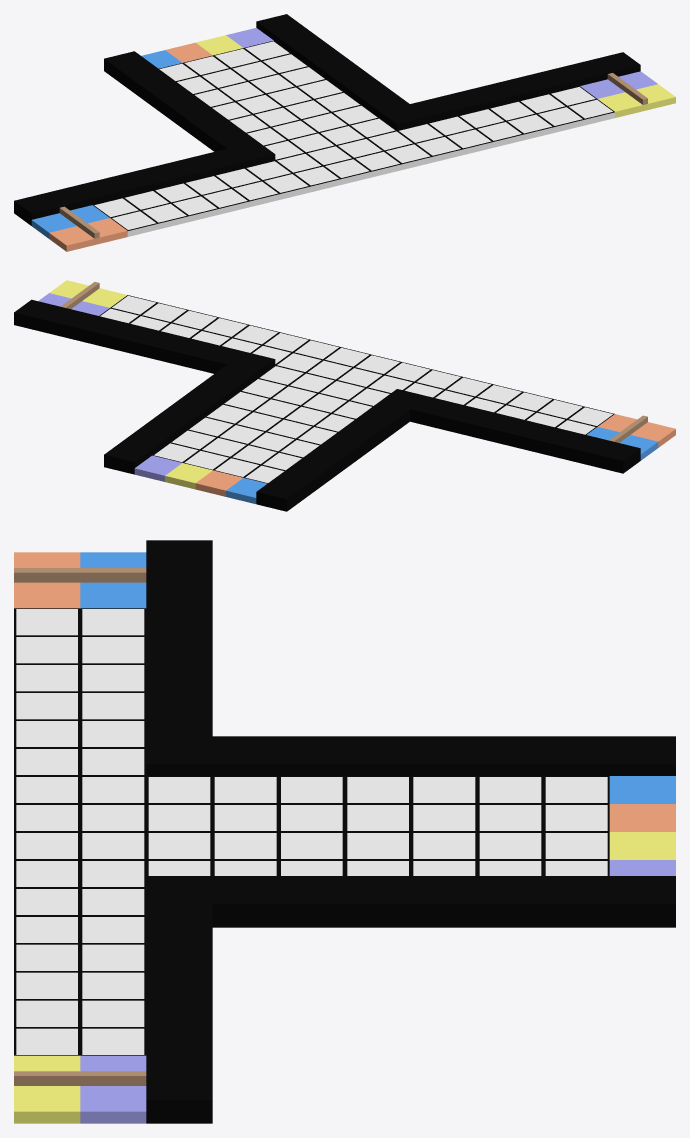
The model's file is arena_v2.dae.
3 renders of one model, top to bottom at view 1: azimuth 30°, elevation 25°; view 2: azimuth 150°, elevation 25°; view 3: azimuth 270°, elevation 25°, orthographic. The views are drawn at different scales.
Visible parts, largest first — view 1: node0, node15, node16, node17, node10, node7, node9, node6, node12, node3, node2, node4 (+6 smaller); view 2: node0, node15, node16, node17, node2, node3, node4, node1, node10, node7, node9, node12 (+3 smaller); view 3: node0, node16, node15, node17, node11, node12, node13, node14, node1, node2, node3, node5 (+6 smaller).
Boxes of the visible parts, x1,y1,x2,y2 form: node0: [94, 41, 614, 236]; node15: [14, 51, 275, 225]; node16: [256, 14, 640, 130]; node17: [93, 40, 614, 230]; node10: [49, 226, 97, 251]; node7: [598, 92, 645, 117]; node9: [31, 213, 76, 238]; node6: [88, 218, 127, 244]; node12: [636, 84, 675, 110]; node3: [196, 35, 242, 55]; node2: [165, 42, 212, 62]; node4: [226, 27, 273, 47]; node0: [100, 295, 612, 482]; node15: [256, 389, 640, 511]; node16: [14, 299, 275, 474]; node17: [99, 295, 614, 483]; node2: [195, 470, 243, 496]; node3: [165, 463, 212, 489]; node4: [134, 455, 181, 481]; node1: [226, 478, 266, 503]; node10: [631, 422, 675, 447]; node7: [82, 288, 127, 307]; node9: [620, 435, 658, 460]; node12: [49, 280, 88, 298]; node0: [16, 609, 607, 1054]; node16: [146, 876, 675, 1123]; node15: [146, 540, 675, 775]; node17: [14, 608, 609, 1055]; node11: [80, 1086, 146, 1123]; node12: [14, 1086, 80, 1123]; node13: [14, 568, 146, 582]; node14: [14, 1071, 146, 1085]; node1: [609, 776, 675, 803]; node2: [609, 804, 675, 831]; node3: [609, 832, 675, 859]; node5: [80, 582, 146, 608].
Bounding box in the file's own units: 3.05 × 1.52 × 0.06.
